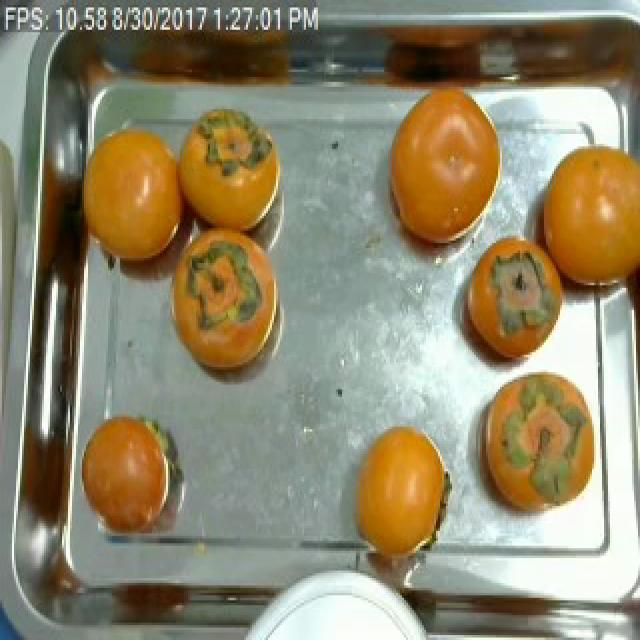Fruit: (370, 77, 522, 263), (522, 124, 640, 330), (80, 106, 206, 298), (464, 352, 598, 528), (448, 221, 576, 387), (164, 218, 286, 392), (336, 412, 460, 580), (168, 89, 294, 253), (78, 402, 186, 546)
